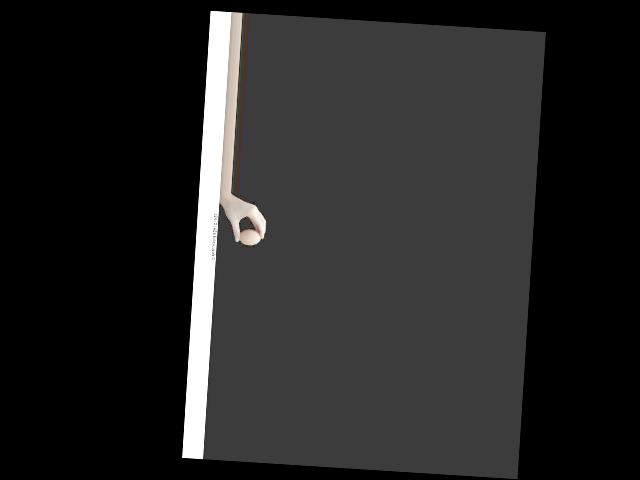egg: (239, 229, 261, 246)
